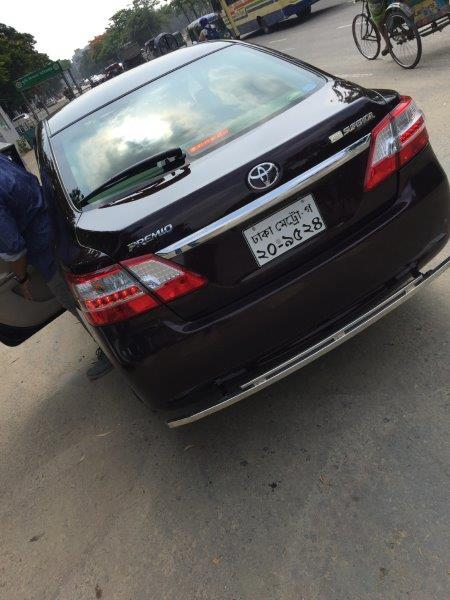car: (30, 35, 450, 430)
